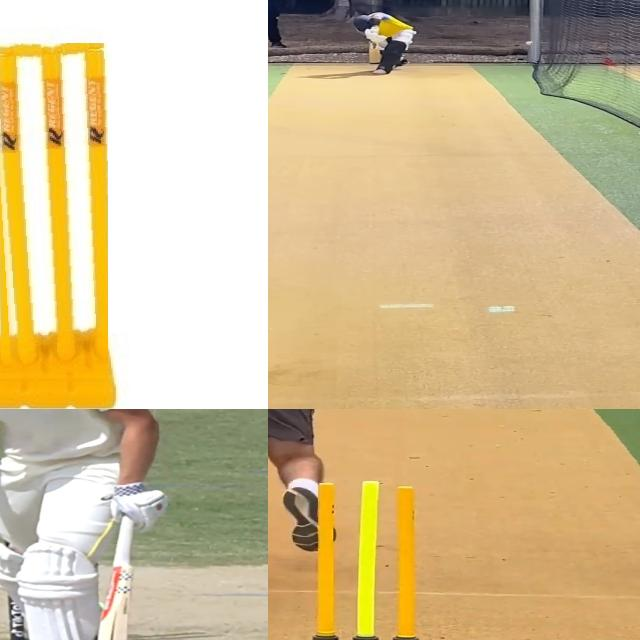Cricket ball: (525, 41, 533, 46)
Stumps: (0, 43, 108, 378), (295, 480, 435, 640)
